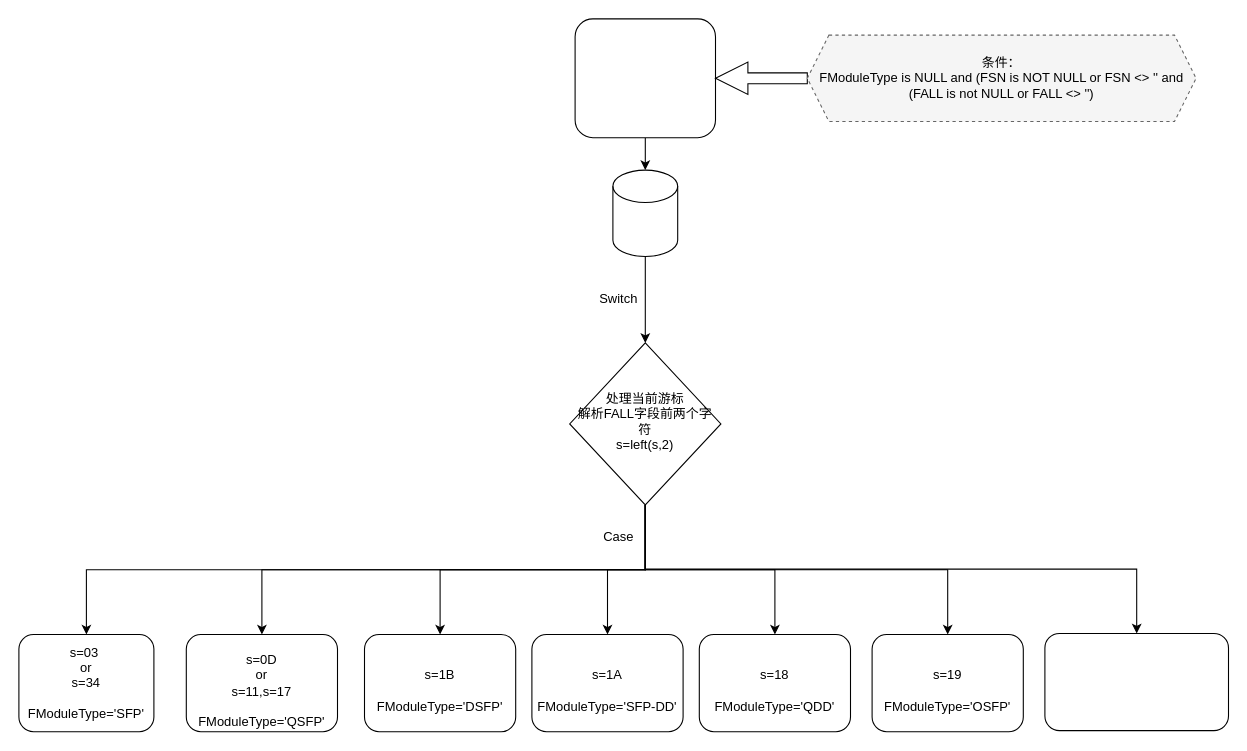
Image size: 1247x751. Some labels were removed from this diagram. The shapes that lost their labels are listed below. From the top down, each one's box as (x1, y1, x2, y2) in pixels, then its label:
(574, 18, 716, 138): 获取所有FALL字段
(612, 169, 678, 256): 将该结果设为游标
(1044, 632, 1228, 731): s=FF or other value FModuleType='UNKNOWN '
